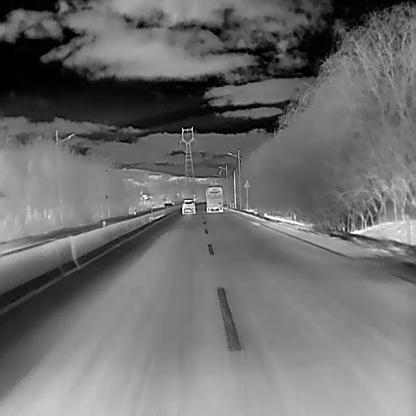car: (204, 185, 224, 215), (180, 195, 196, 215)
